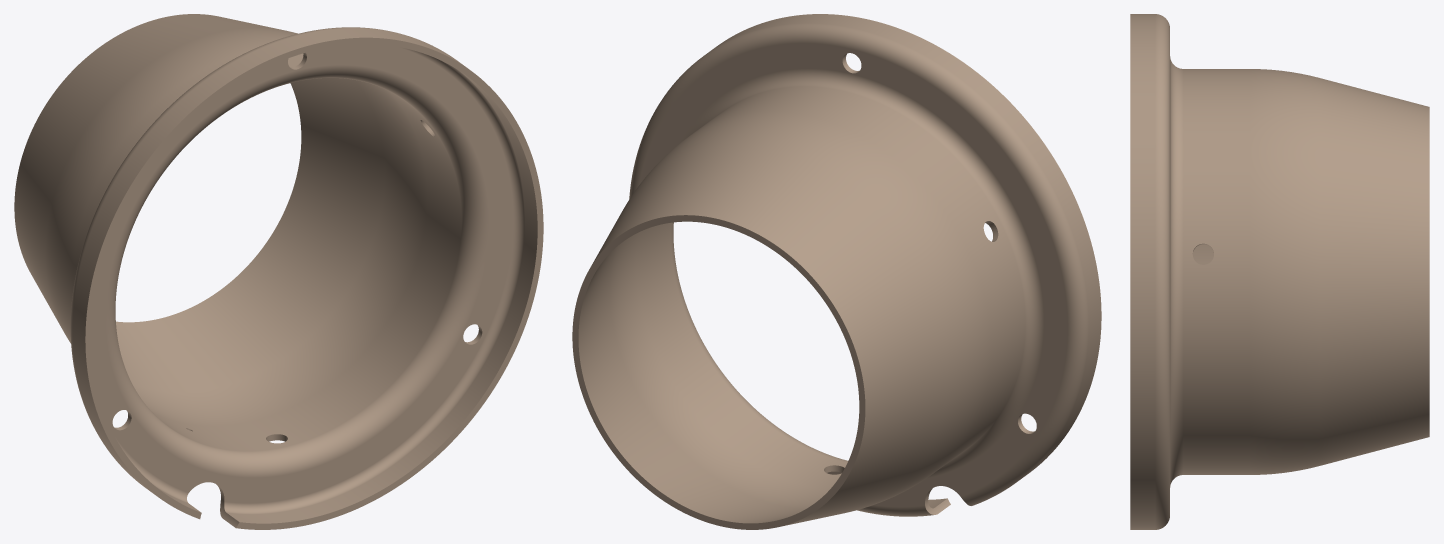
Rendered from modal7.fbx.
3 views of the same model, side by side, from view 1: azimuth 30°, elevation 25°; view 2: azimuth 150°, elevation 25°; view 3: azimuth 270°, elevation 25° (orthographic). The views are drawn at different scales.
Visible parts, largest first — view 1: 切除-拉伸4; view 2: 切除-拉伸4; view 3: 切除-拉伸4.
Part boxes in pixels (x1,y1,x2,y2): 切除-拉伸4: (14, 14, 543, 529); 切除-拉伸4: (572, 14, 1101, 529); 切除-拉伸4: (1130, 14, 1429, 529).
Bounding box in the file's own units: 7.75 × 7.75 × 4.5.
